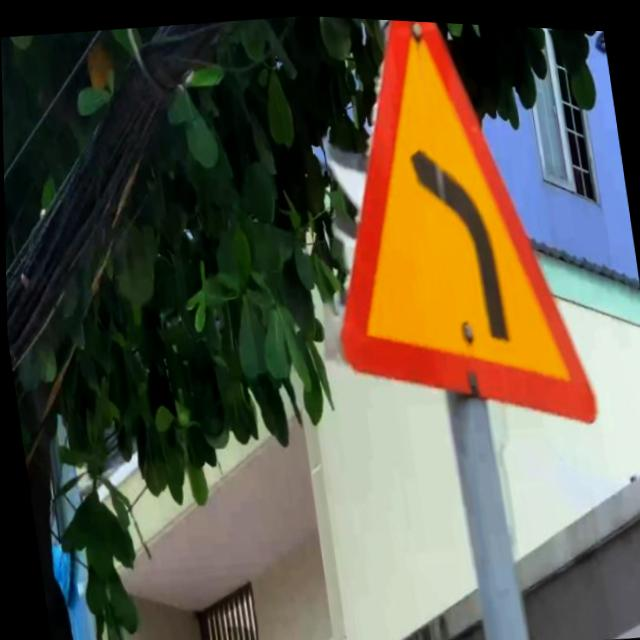cho ngoat nguy hiem vong ben trai: (284, 12, 609, 454)
